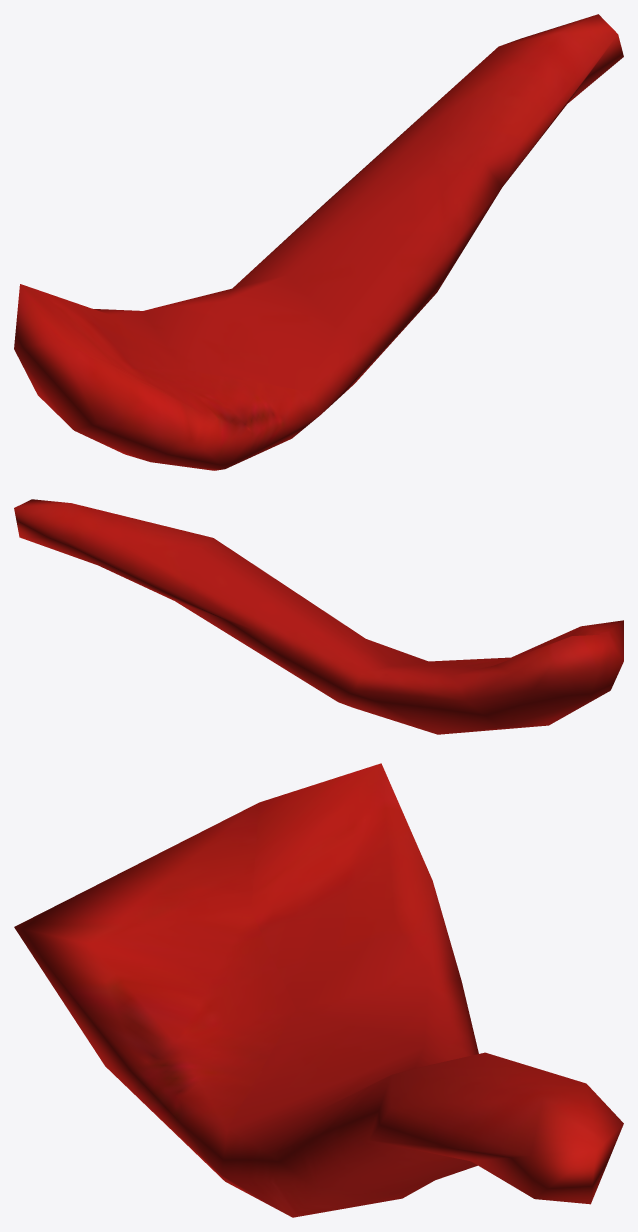
Rendered from Orbital_Muscle_01.glb.
3 views of the same model, one above another, from view 1: azimuth 30°, elevation 25°; view 2: azimuth 150°, elevation 25°; view 3: azimuth 270°, elevation 25° (orthographic). The views are drawn at different scales.
Visible parts, largest first — view 1: Orbital_Mucle_01; view 2: Orbital_Mucle_01; view 3: Orbital_Mucle_01.
Part boxes in pixels (bbox=[...]): Orbital_Mucle_01: bbox=[14, 14, 623, 470]; Orbital_Mucle_01: bbox=[14, 499, 623, 734]; Orbital_Mucle_01: bbox=[14, 763, 623, 1217].
Size of the model in its own units: 0.0643 by 0.0226 by 0.0334.
1 material, 1 textured.
